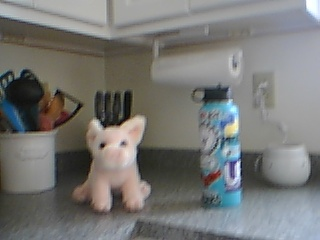piggy: (72, 114, 153, 214)
